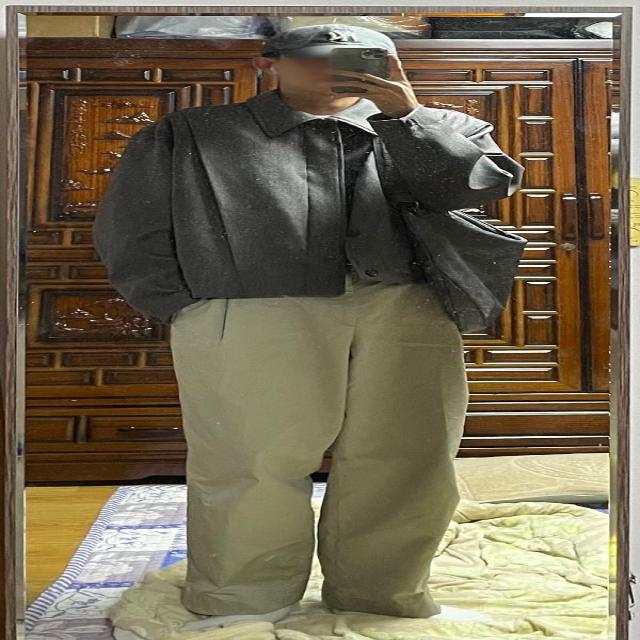cottonpants: (166, 276, 470, 619)
jacket: (100, 88, 527, 322)
